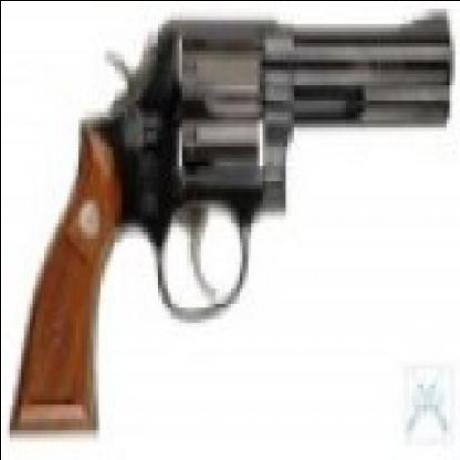weapon: (7, 0, 458, 443)
